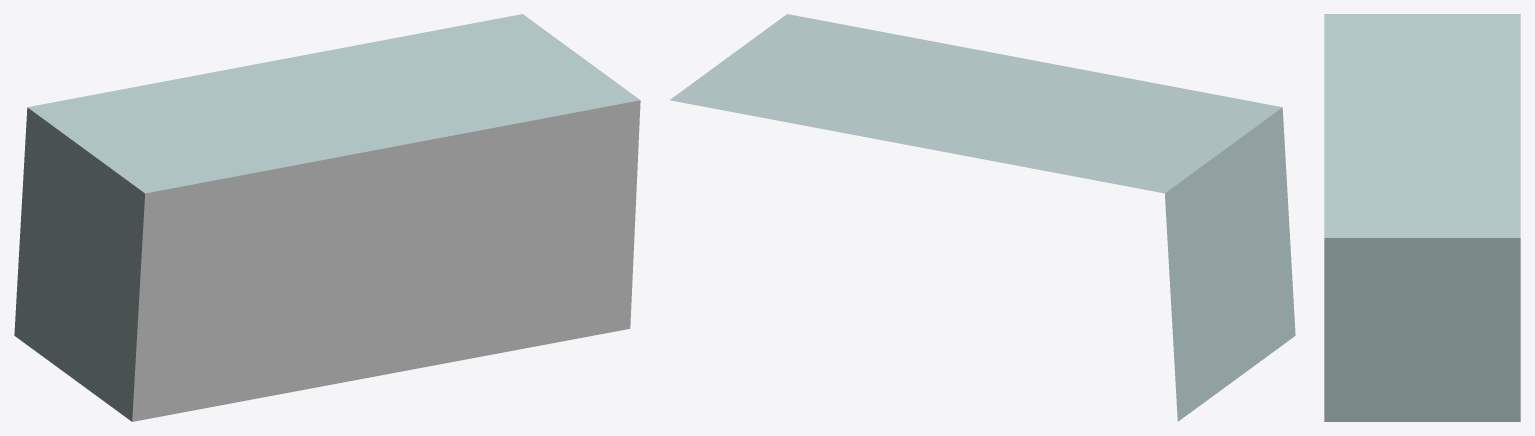
3 views of the same model, side by side, from view 1: azimuth 30°, elevation 25°; view 2: azimuth 150°, elevation 25°; view 3: azimuth 270°, elevation 25° (orthographic). The views are drawn at different scales.
Parts seen in each view (by area): view 1: 0_0_2_0_2_0_1_3_0; view 2: 0_0_2_0_2_0_1_3_0; view 3: 0_0_2_0_2_0_1_3_0.
Boxes of the visible parts, box(x1,y1,x2,y2) form: 0_0_2_0_2_0_1_3_0: box(14, 14, 640, 421); 0_0_2_0_2_0_1_3_0: box(670, 14, 1295, 421); 0_0_2_0_2_0_1_3_0: box(1324, 14, 1520, 421).
Bounding box in the file's own units: 7.47 × 3.56 × 3.
